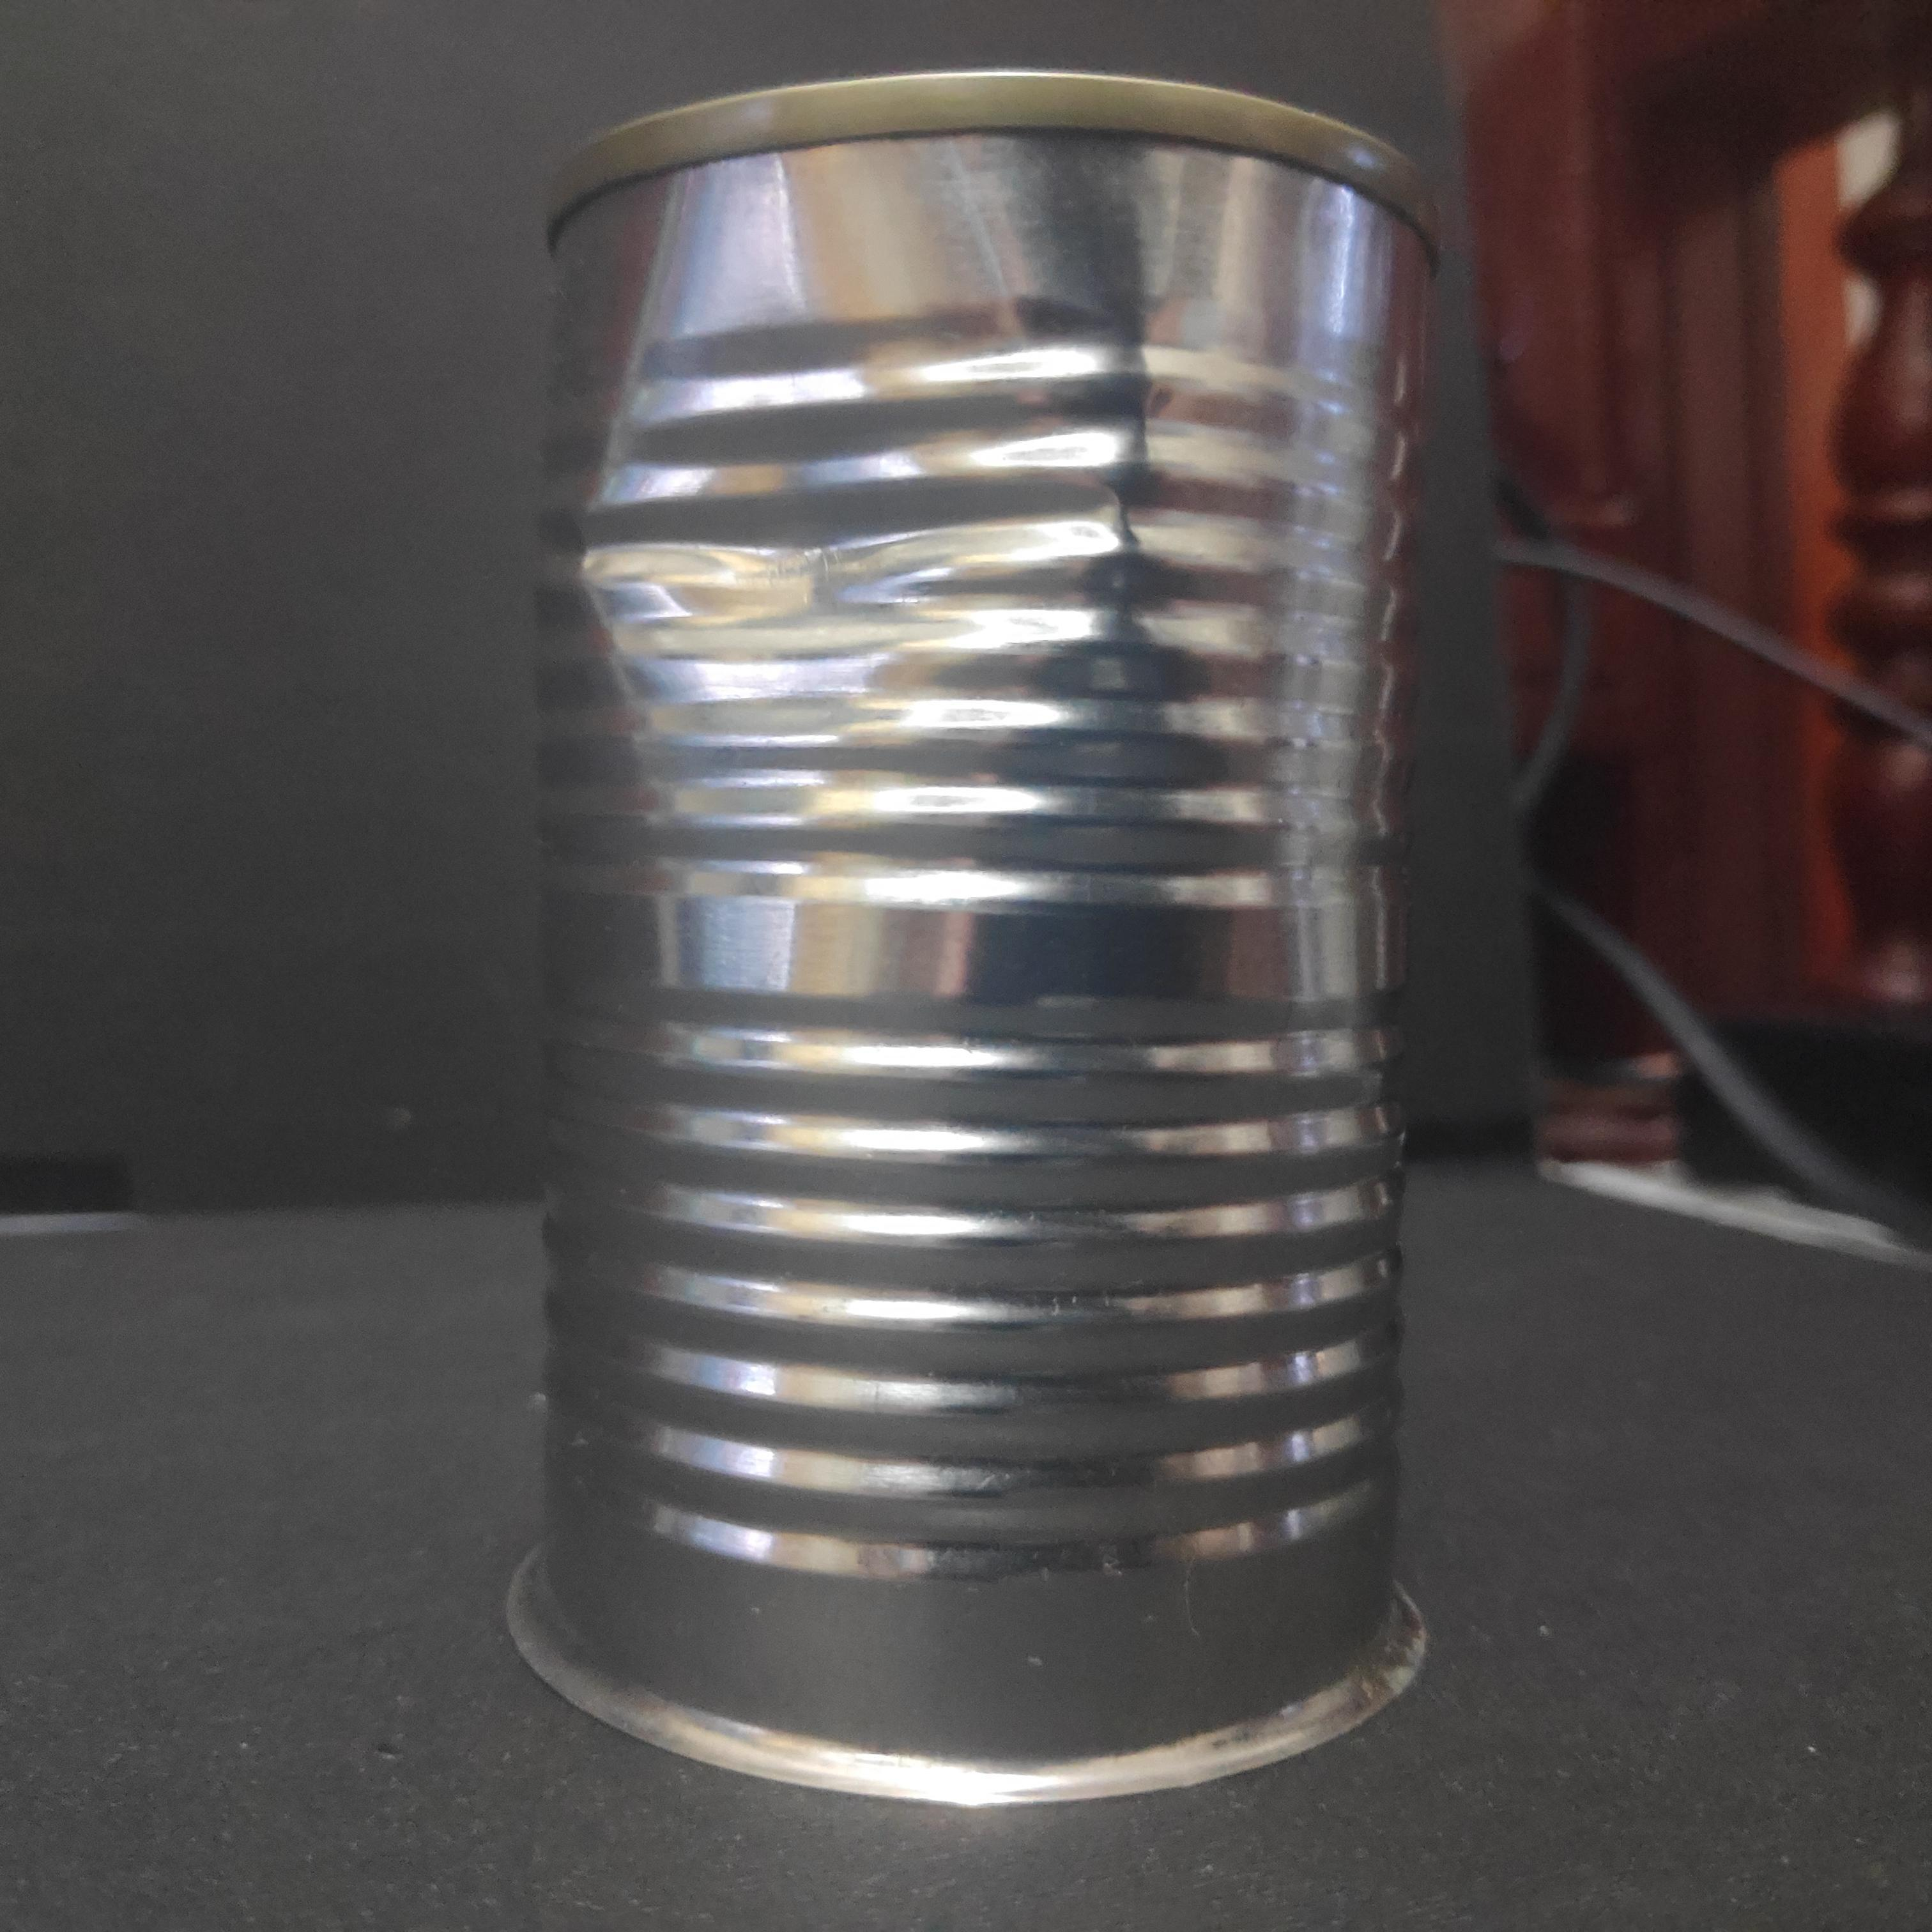Dented: (504, 55, 1467, 1815)
